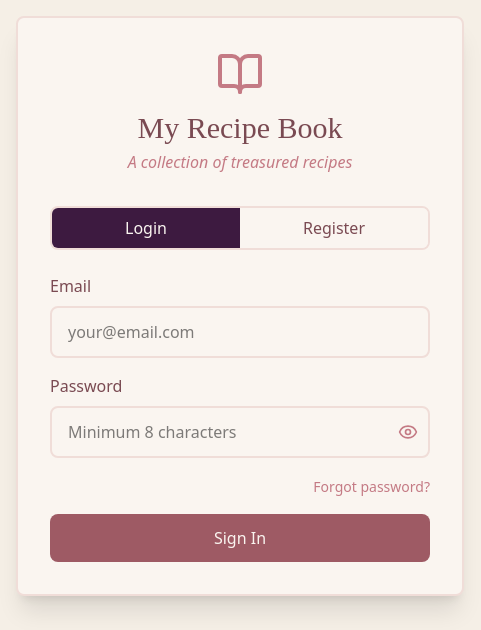
Test: rendering › should not show Forgot Password link in the register mode
This screenshot has width=481, height=630.
Click the button "Register" at (334,228), box [240, 208, 428, 248]
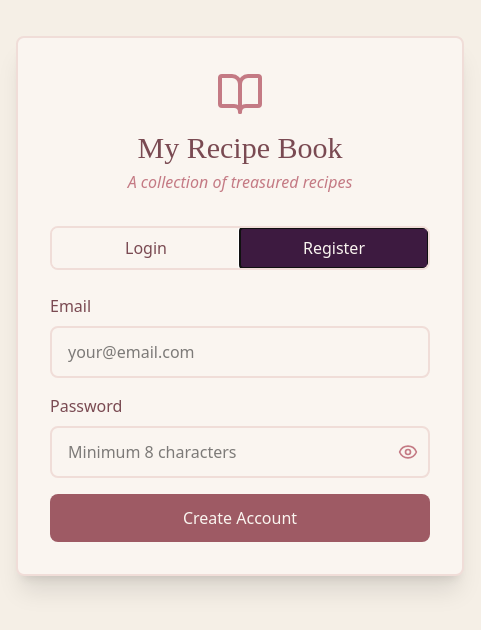
Expected: the button "Forgot password" is gone
